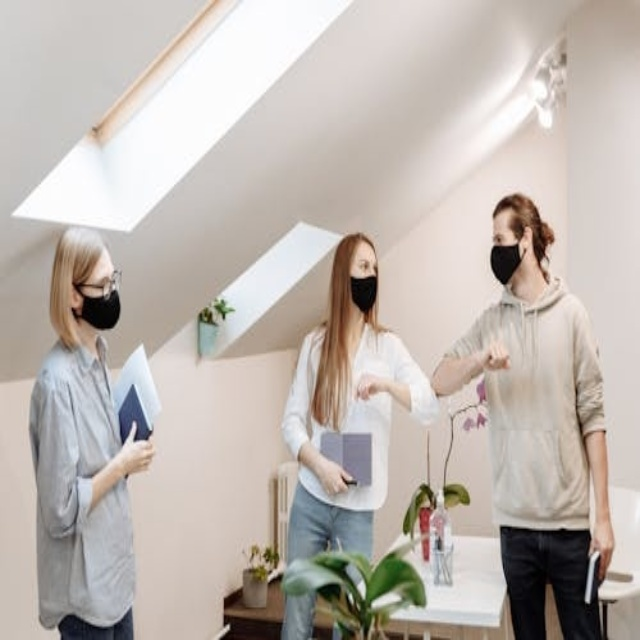Gafas: (76, 271, 122, 300)
Mascara: (76, 282, 121, 330), (490, 241, 525, 285), (350, 275, 378, 312)
Sin_gafas: (352, 254, 378, 277), (489, 225, 513, 242)
Sin_guantes: (114, 421, 155, 484), (316, 450, 353, 500), (585, 519, 613, 582), (353, 365, 384, 402)
